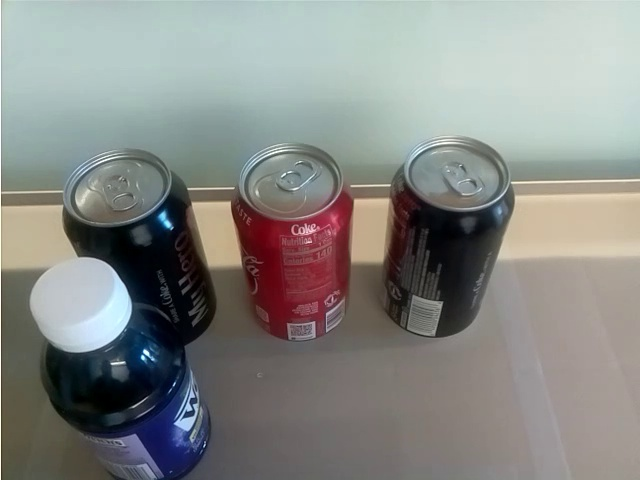cocacola: (231, 140, 356, 347)
cocacola-zero: (60, 146, 213, 344), (382, 134, 516, 338)
juice: (26, 256, 212, 480)
